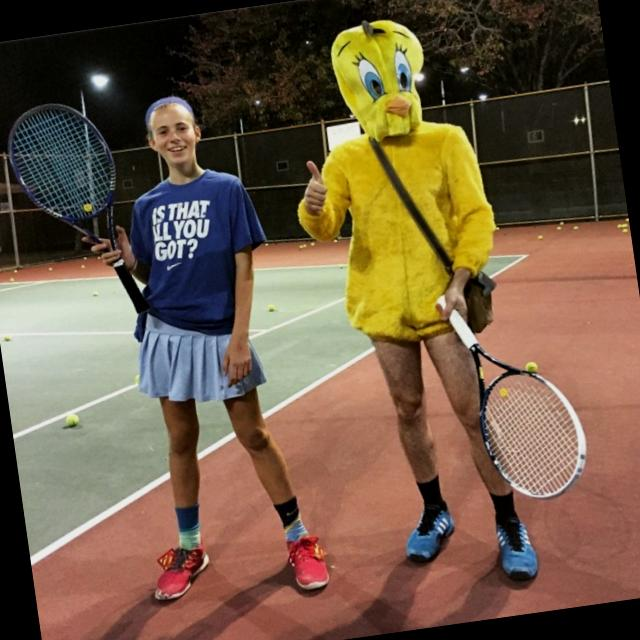Tennis Ball: (520, 357, 540, 376), (64, 409, 86, 426)
